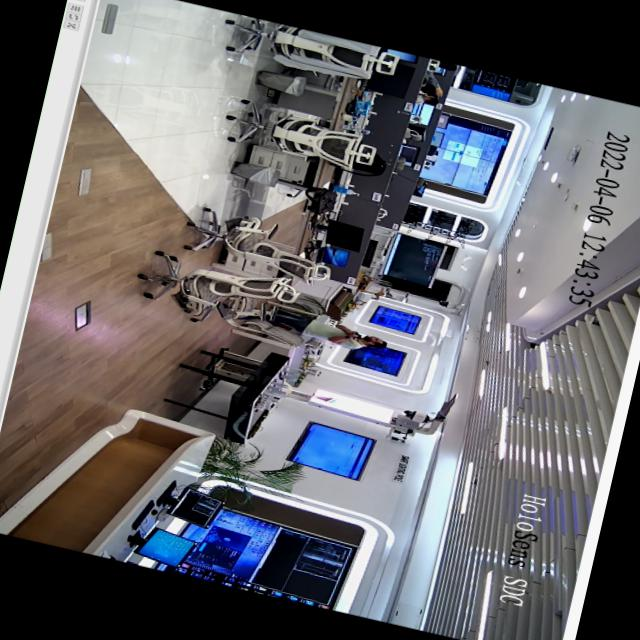long weapon: (336, 322, 367, 349)
